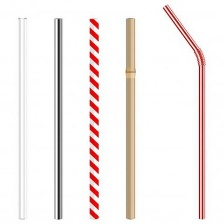drinking_straw: (157, 1, 213, 222), (83, 12, 104, 222), (47, 13, 67, 221), (121, 12, 140, 222), (14, 12, 33, 222)
